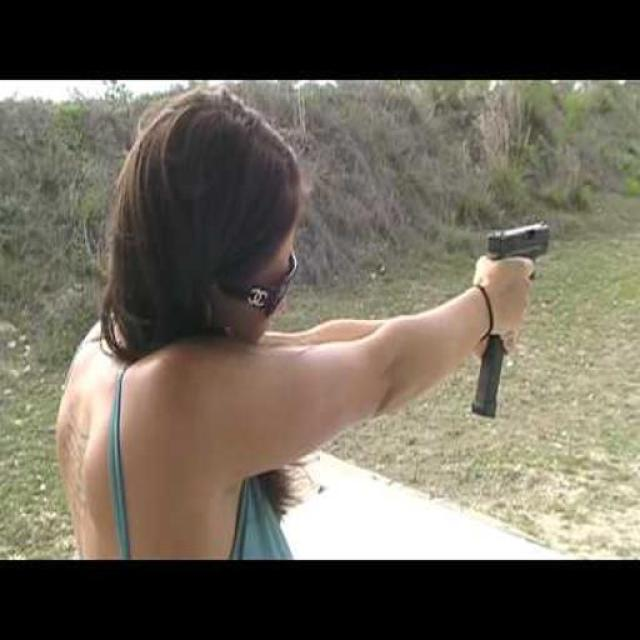pistol: (484, 221, 554, 350)
